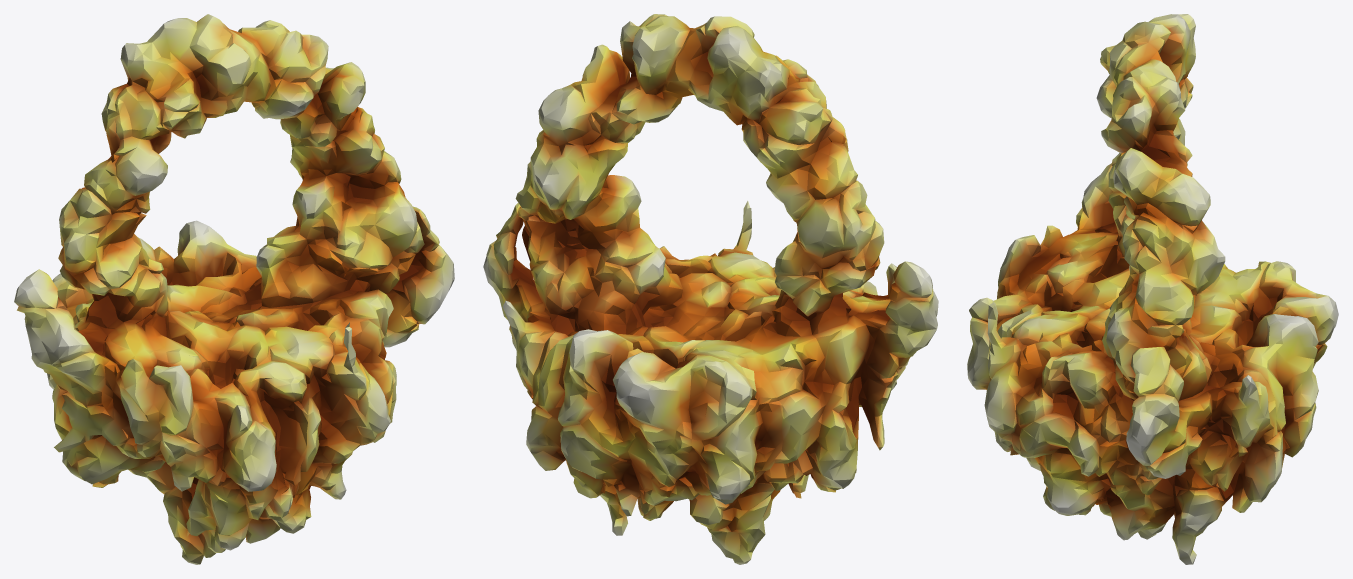
File: Stylised_floating_03_mesh.fbx
The picture shows the model from 3 angles, left to right: view 1: azimuth 30°, elevation 25°; view 2: azimuth 150°, elevation 25°; view 3: azimuth 270°, elevation 25°; orthographic projection. The views are drawn at different scales.
Visible parts, largest first — view 1: attribdelete3; view 2: attribdelete3; view 3: attribdelete3.
Part boxes in pixels (x1,y1,x2,y2): attribdelete3: (14, 14, 454, 564); attribdelete3: (483, 14, 938, 564); attribdelete3: (967, 14, 1338, 564).
Bounding box in the file's own units: 24.68 × 28.95 × 18.61.
